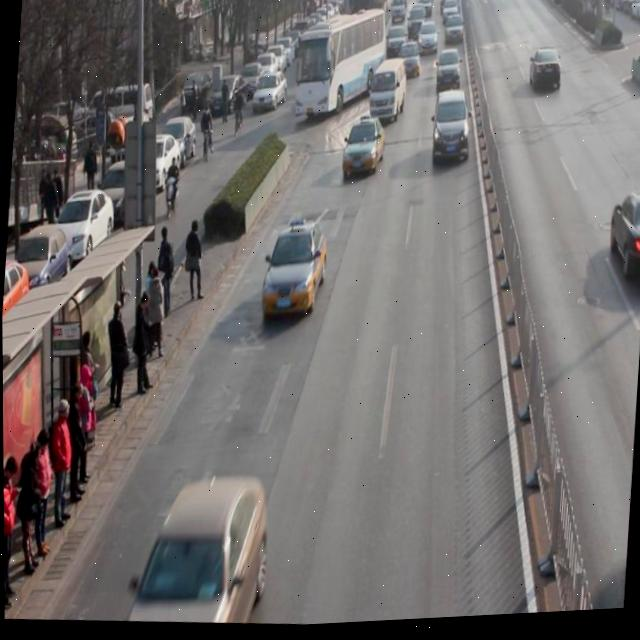car: (118, 470, 271, 632), (260, 222, 330, 325), (429, 92, 474, 173), (606, 197, 640, 287), (341, 120, 387, 184), (527, 52, 563, 99), (433, 51, 463, 99)
truck: (367, 59, 409, 129)
van: (291, 8, 389, 127)
